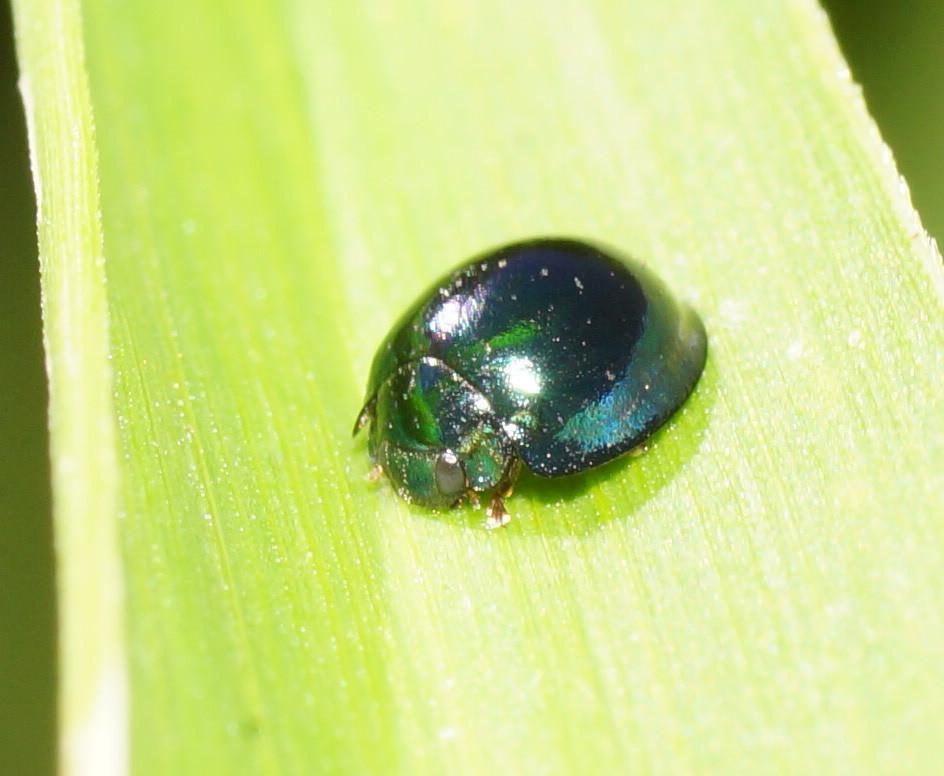ladybug: (349, 229, 715, 535)
